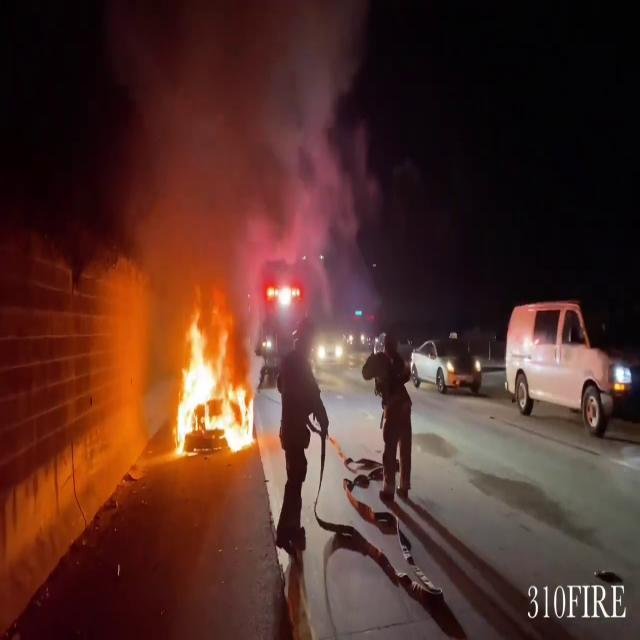Fire: (162, 304, 258, 458)
Smoke: (79, 0, 377, 304)
